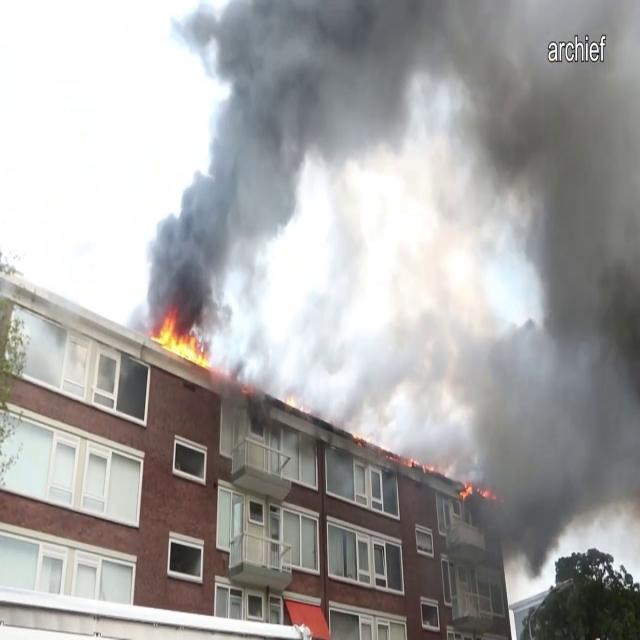Fire: (144, 314, 208, 364)
Smoke: (332, 0, 638, 558), (158, 0, 377, 411)
